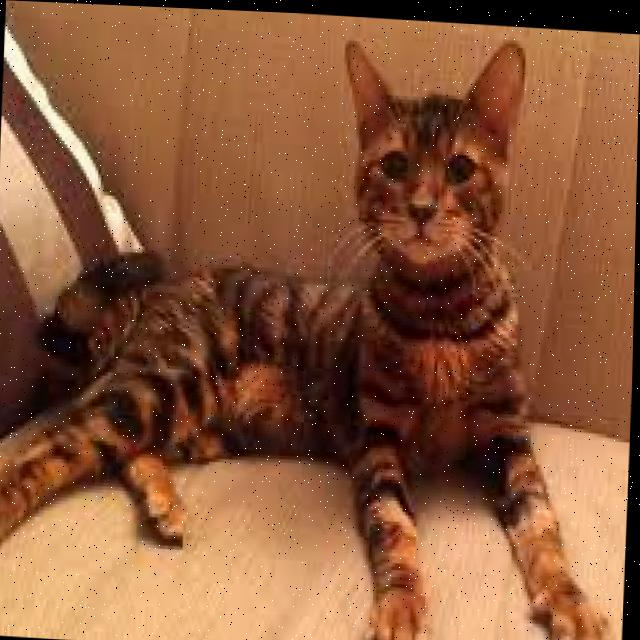Toyger: (0, 0, 636, 640)
